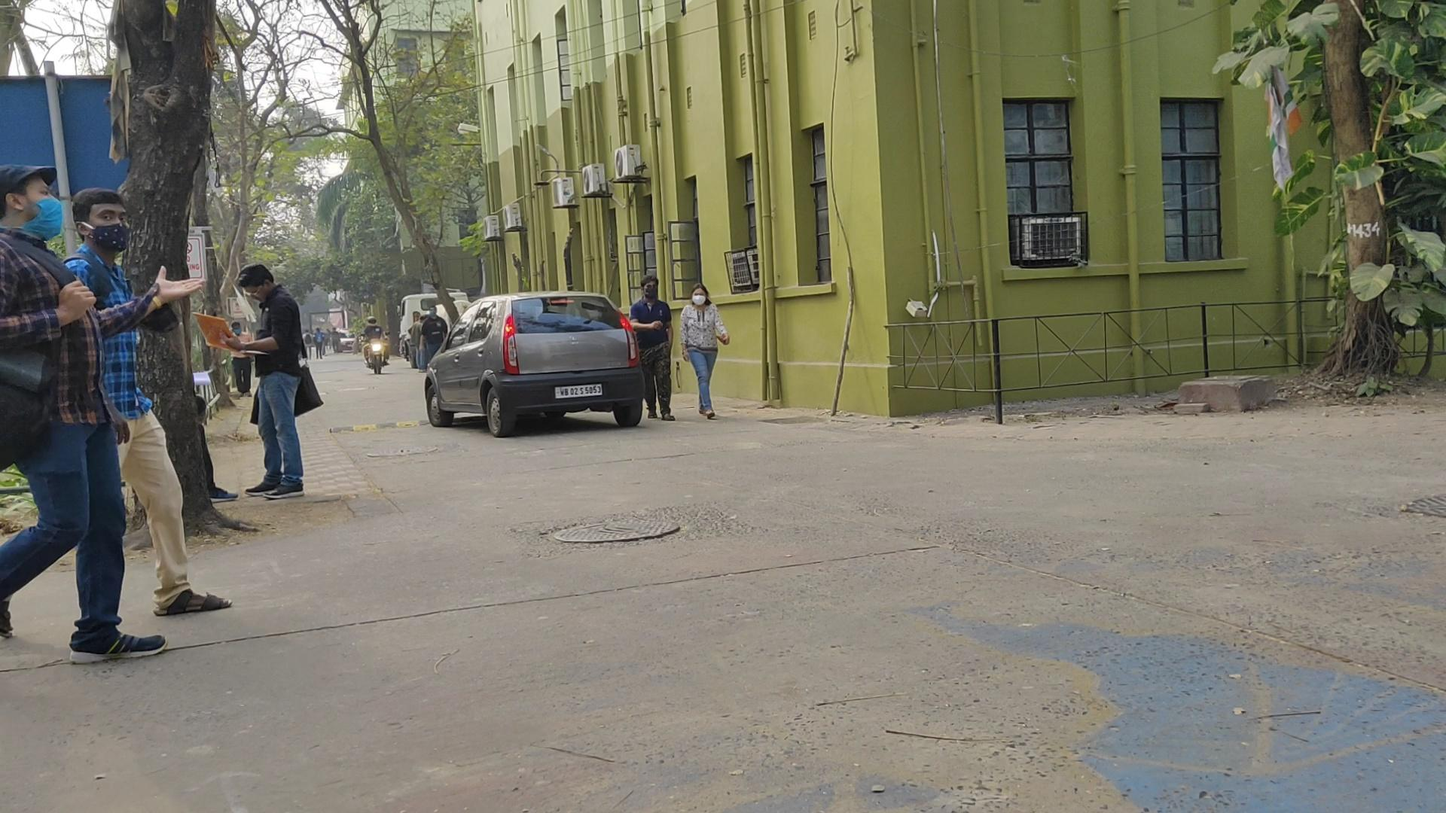bike: (359, 314, 392, 375)
car: (426, 289, 645, 438)
